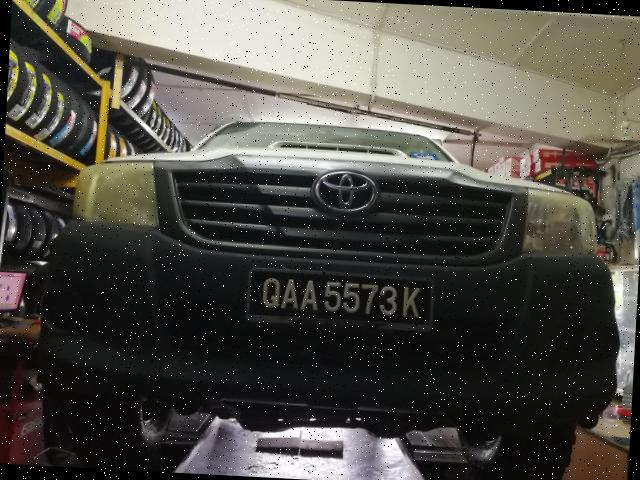License_Plate: (251, 270, 436, 333)
car: (37, 94, 636, 480)
